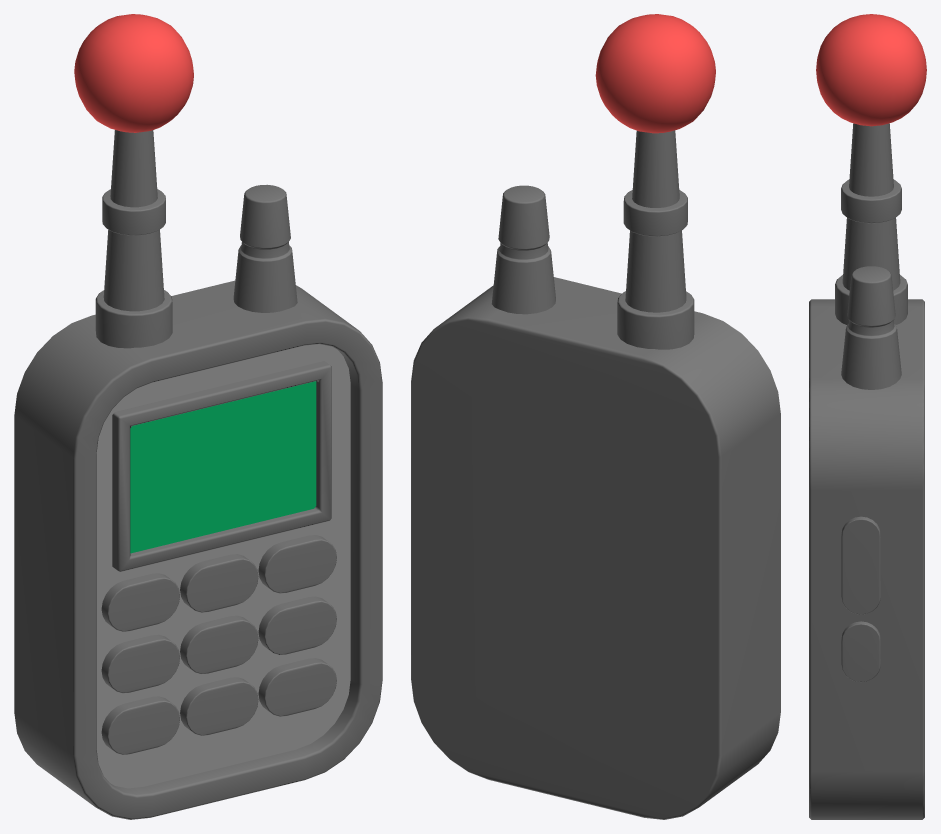
Rendered from Public_16_Walkie_Talkie_1.glb.
3 views of the same model, side by side, from view 1: azimuth 30°, elevation 25°; view 2: azimuth 150°, elevation 25°; view 3: azimuth 270°, elevation 25° (orthographic). The views are drawn at different scales.
Visible parts, largest first — view 1: Public_16_Walkie_Talkie_1; view 2: Public_16_Walkie_Talkie_1; view 3: Public_16_Walkie_Talkie_1.
Boxes of the visible parts, <box> form: Public_16_Walkie_Talkie_1: <box>14,14,382,819</box>; Public_16_Walkie_Talkie_1: <box>411,14,780,819</box>; Public_16_Walkie_Talkie_1: <box>809,14,926,819</box>.
Bounding box in the file's own units: 0.9008 × 2.11 × 0.309.
Materials: 1 (1 with a texture image).
